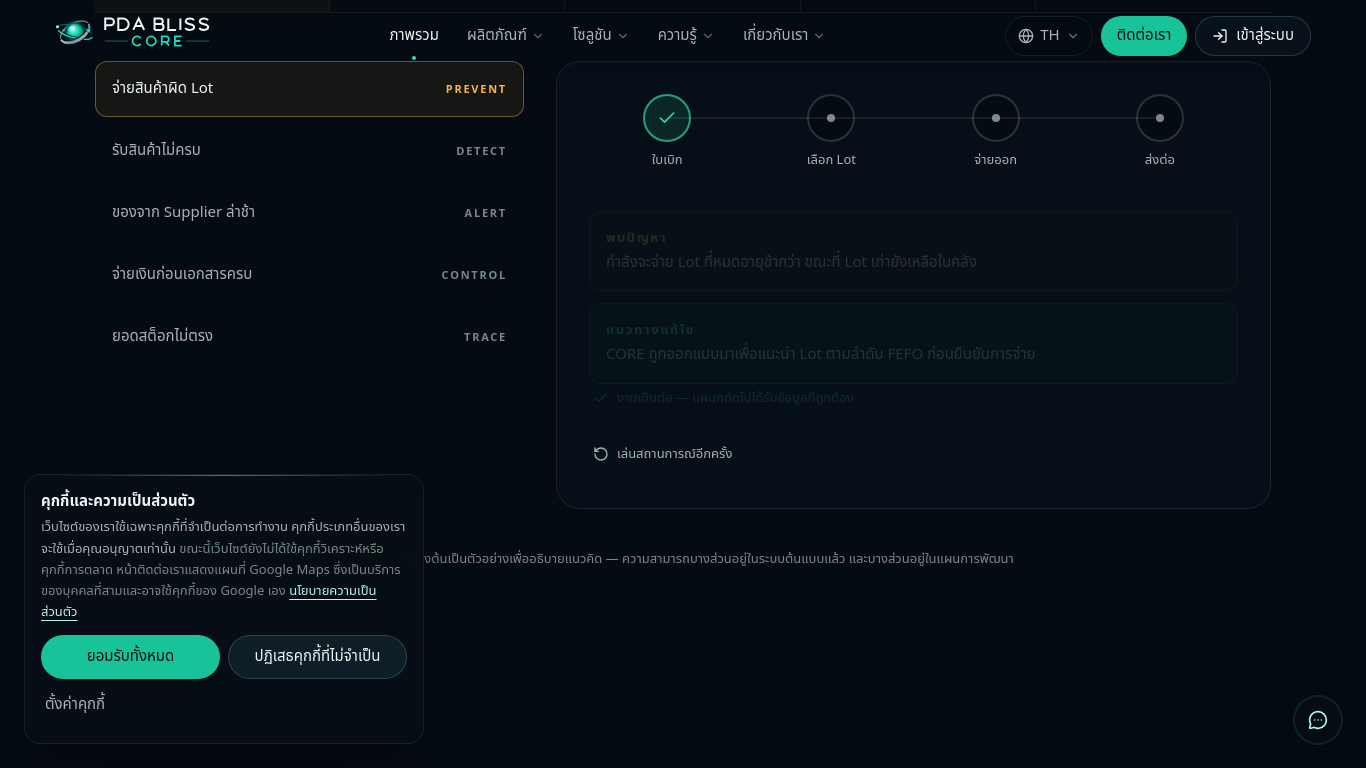
Scenario: error control › presents PREVENT / DETECT / ALERT / CONTROL / TRACE through selectable scenarios
(page scrolled)
Step 1. Click the tab "จ่ายเงินก่อนเอกสารครบ CONTROL" → (182, 275), box left=95, top=247, right=524, bottom=303
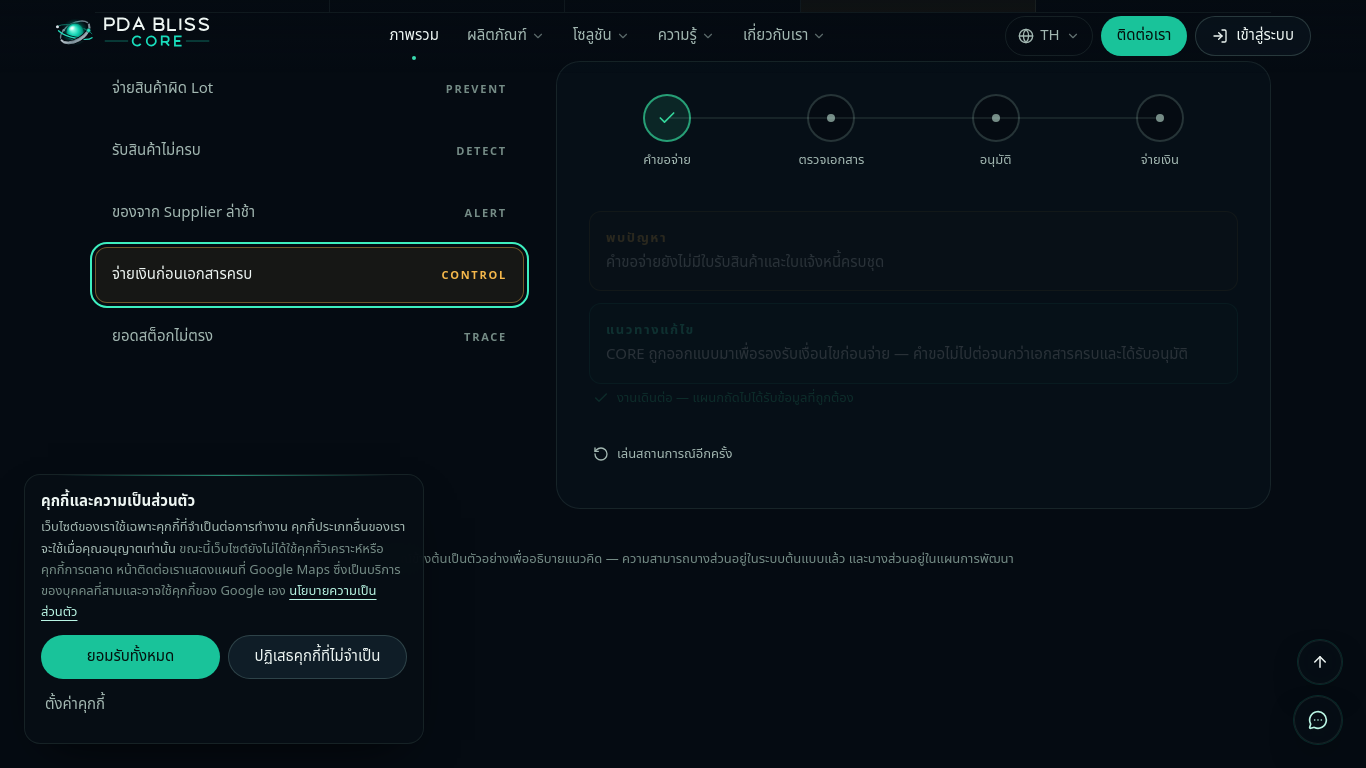
Expected: the panel shows "เอกสารครบและได้รับอนุมัติ", left=606, top=343, right=1188, bottom=366
Expected: the panel shows "CORE ถูกออกแบบมาเพื่อรองรับ", left=606, top=343, right=1188, bottom=366
